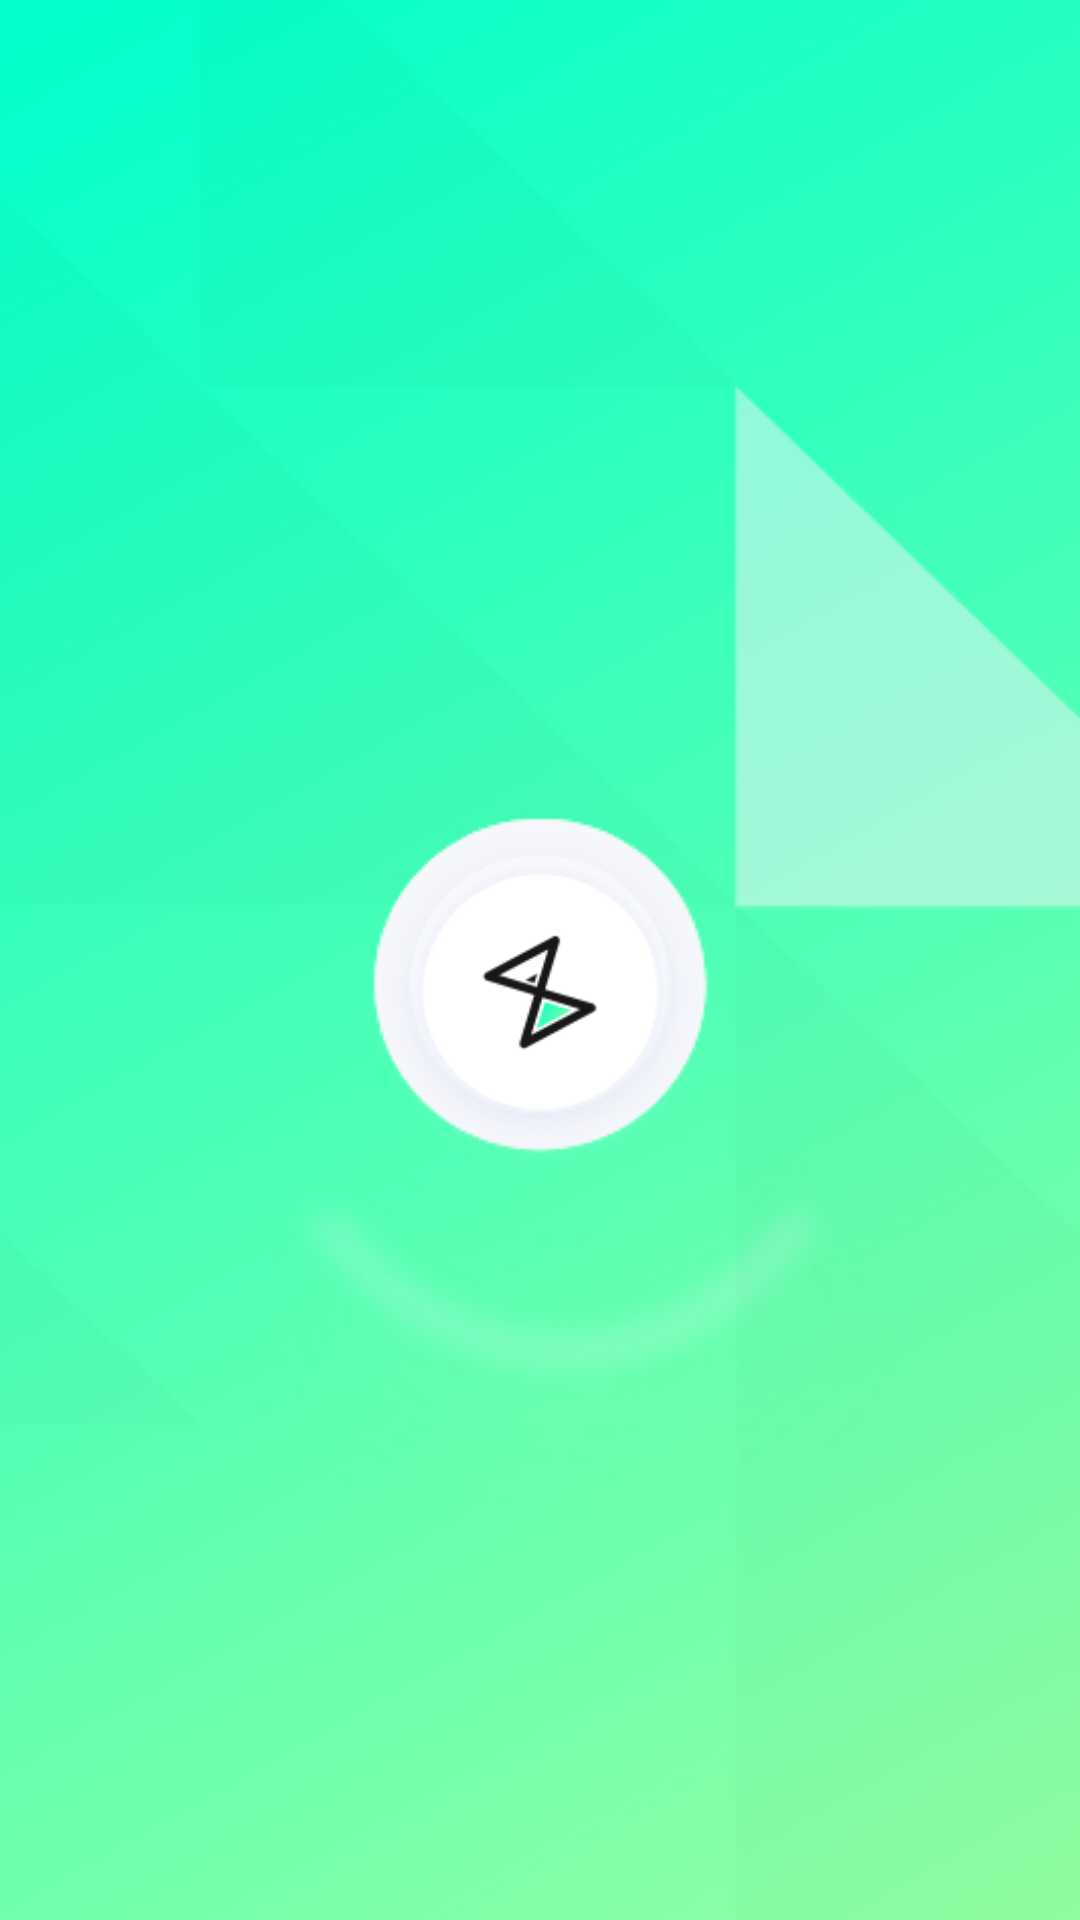

Point at icon controls on the screen. Image size 1080x1920, points as (x,y).
circle: (540,985)
